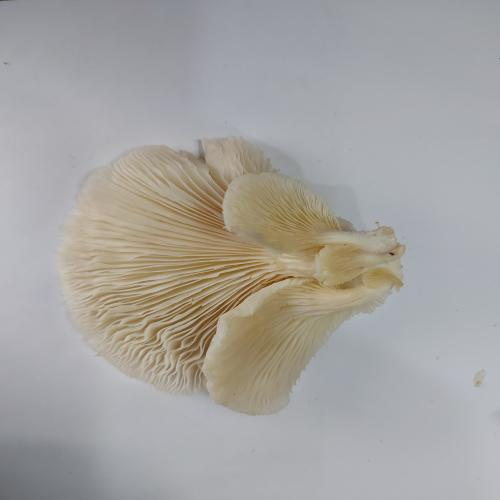Oyster Mushroom: (56, 134, 407, 416)
